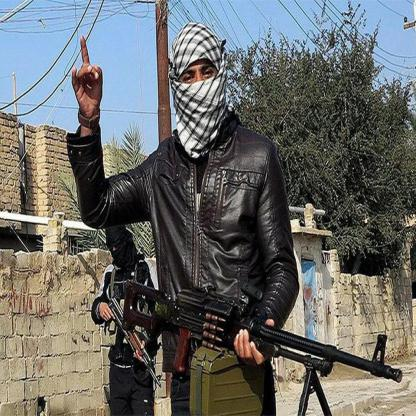rifle: (121, 274, 403, 415), (106, 302, 162, 392)
